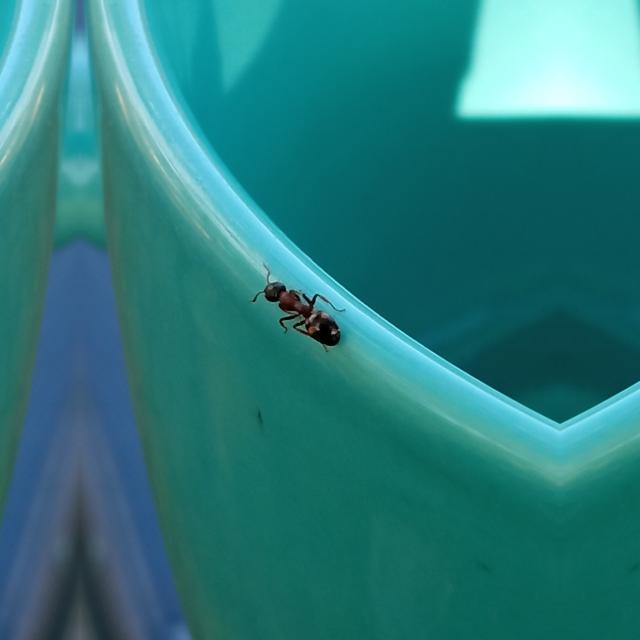Dolichoderus: (248, 262, 349, 358)
